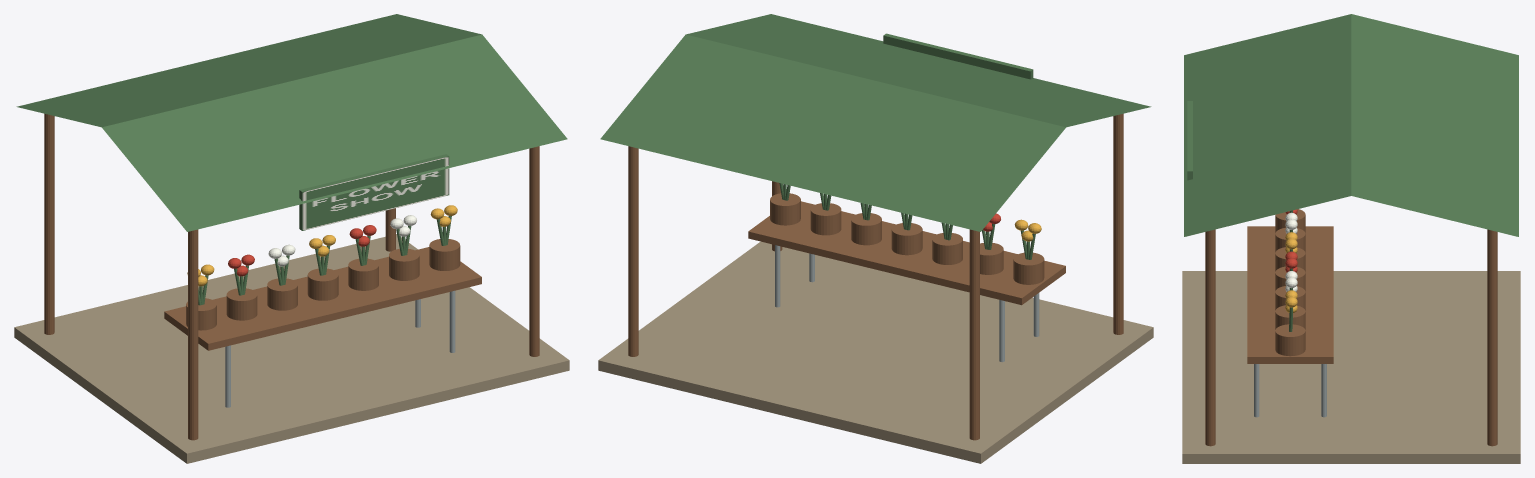
File: scendance-plan-floriculture.glb
The picture shows the model from 3 angles, left to right: view 1: azimuth 30°, elevation 25°; view 2: azimuth 150°, elevation 25°; view 3: azimuth 270°, elevation 25°; orthographic projection. The views are drawn at different scales.
Size of the model in its own units: 3.9 by 2.66 by 3.05.
Materials: 8 (1 with a texture image).
